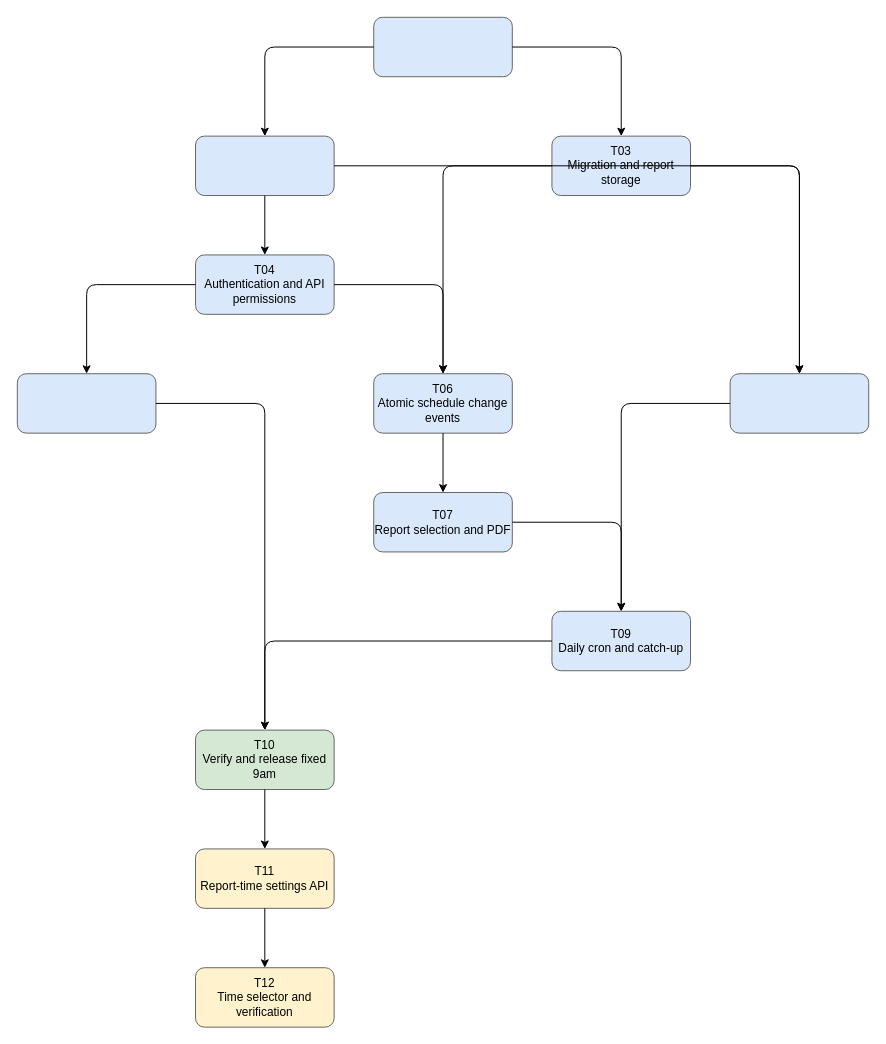
This 886x1044 diagram has some shape labels left out. The box of each missing label's shape, as (x1, y1, x2, y2) in pixels:
T01 Contracts and policy: (373, 16, 512, 77)
T02 Account store and provisioning: (195, 135, 334, 196)
T05 Login and role-aware UI: (16, 373, 156, 433)
T08 Email delivery and retry state: (729, 373, 869, 433)
